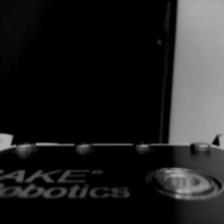Door Handle: (150, 36, 166, 62)
